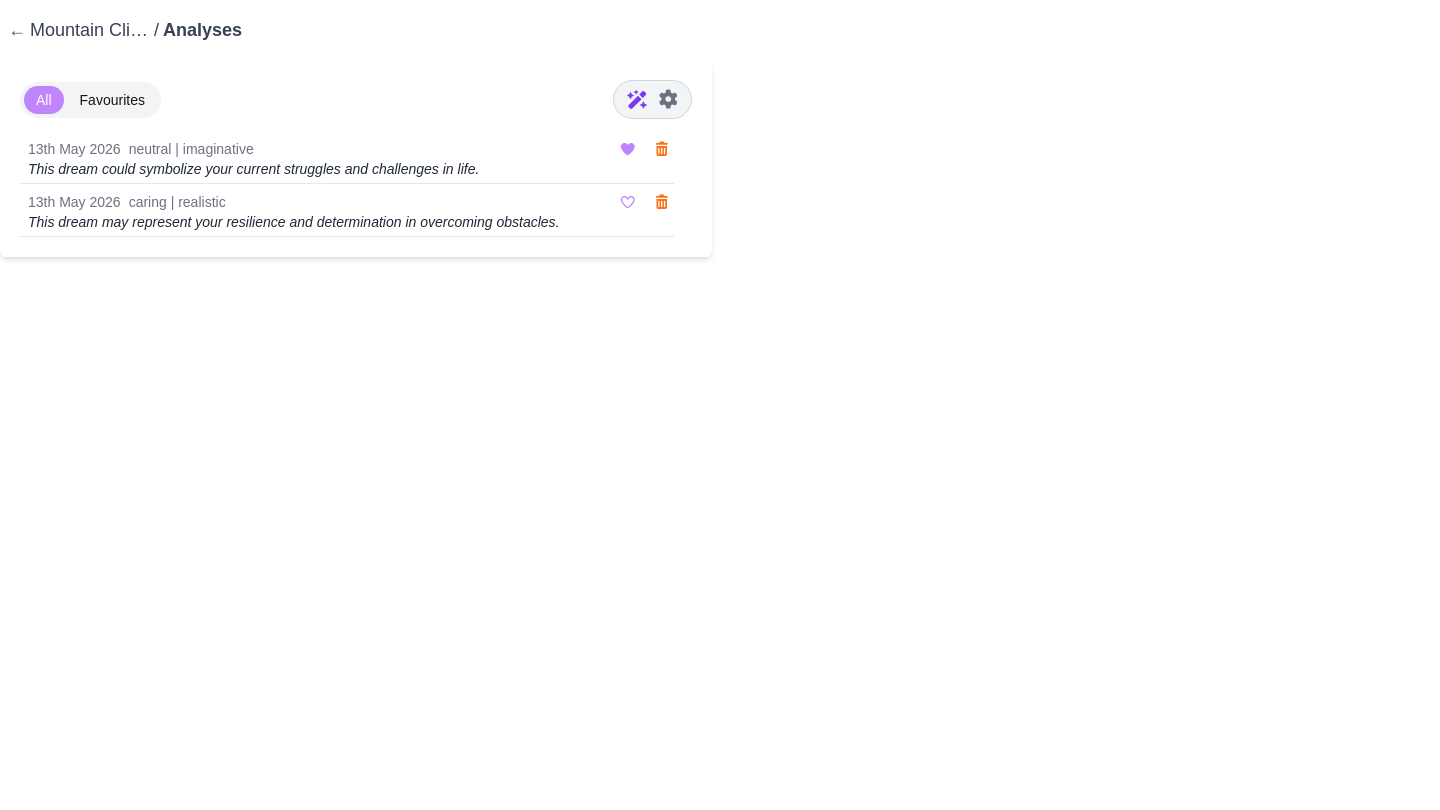
Scenario: Generate new analysis modal should: › Be visible with analysis text when generate button is clicked.
Click the button named "Generate new AI analysis": coordinates (637, 100) [626,86,648,114]
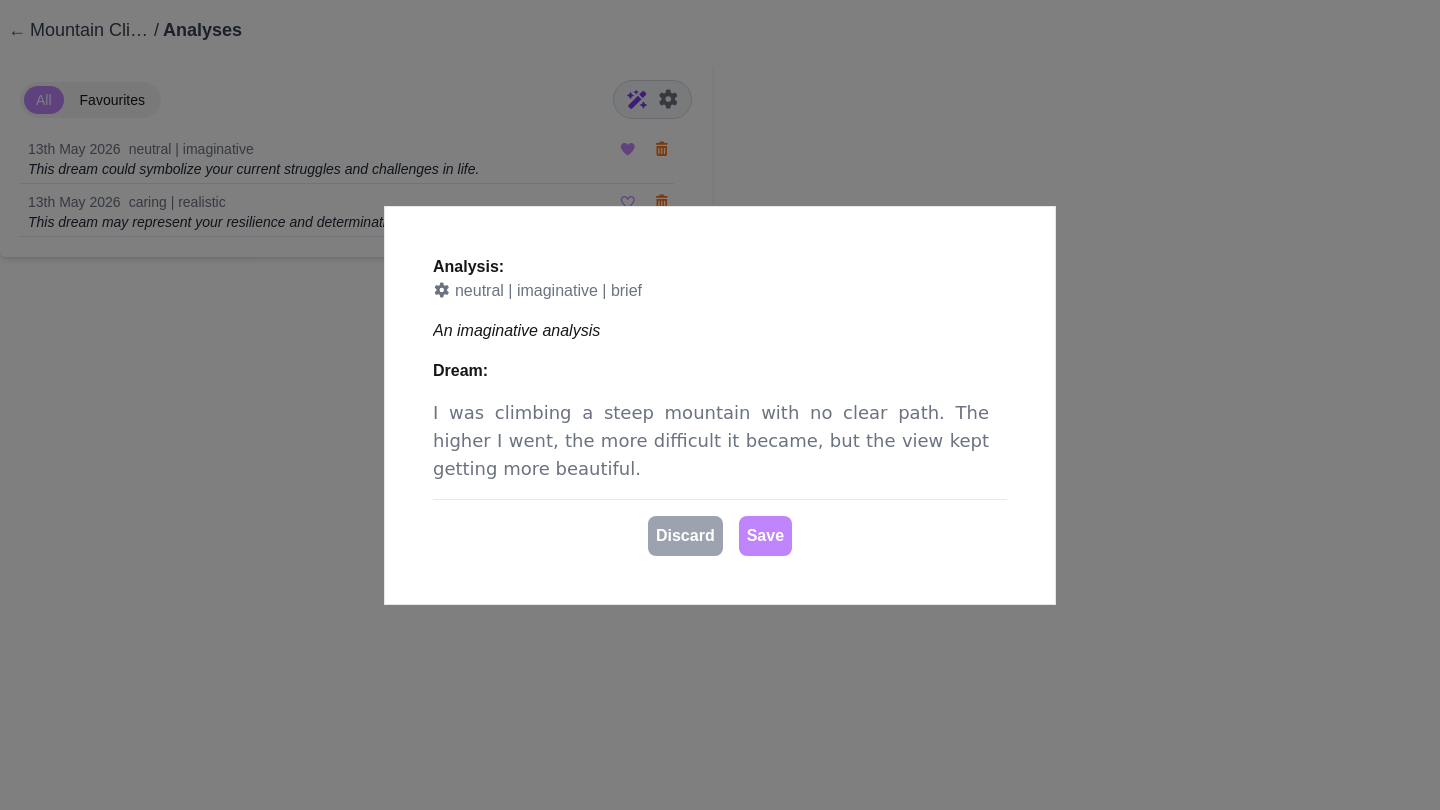
Now the text "An imaginative analysis" is shown, box [433,322,600,338]
